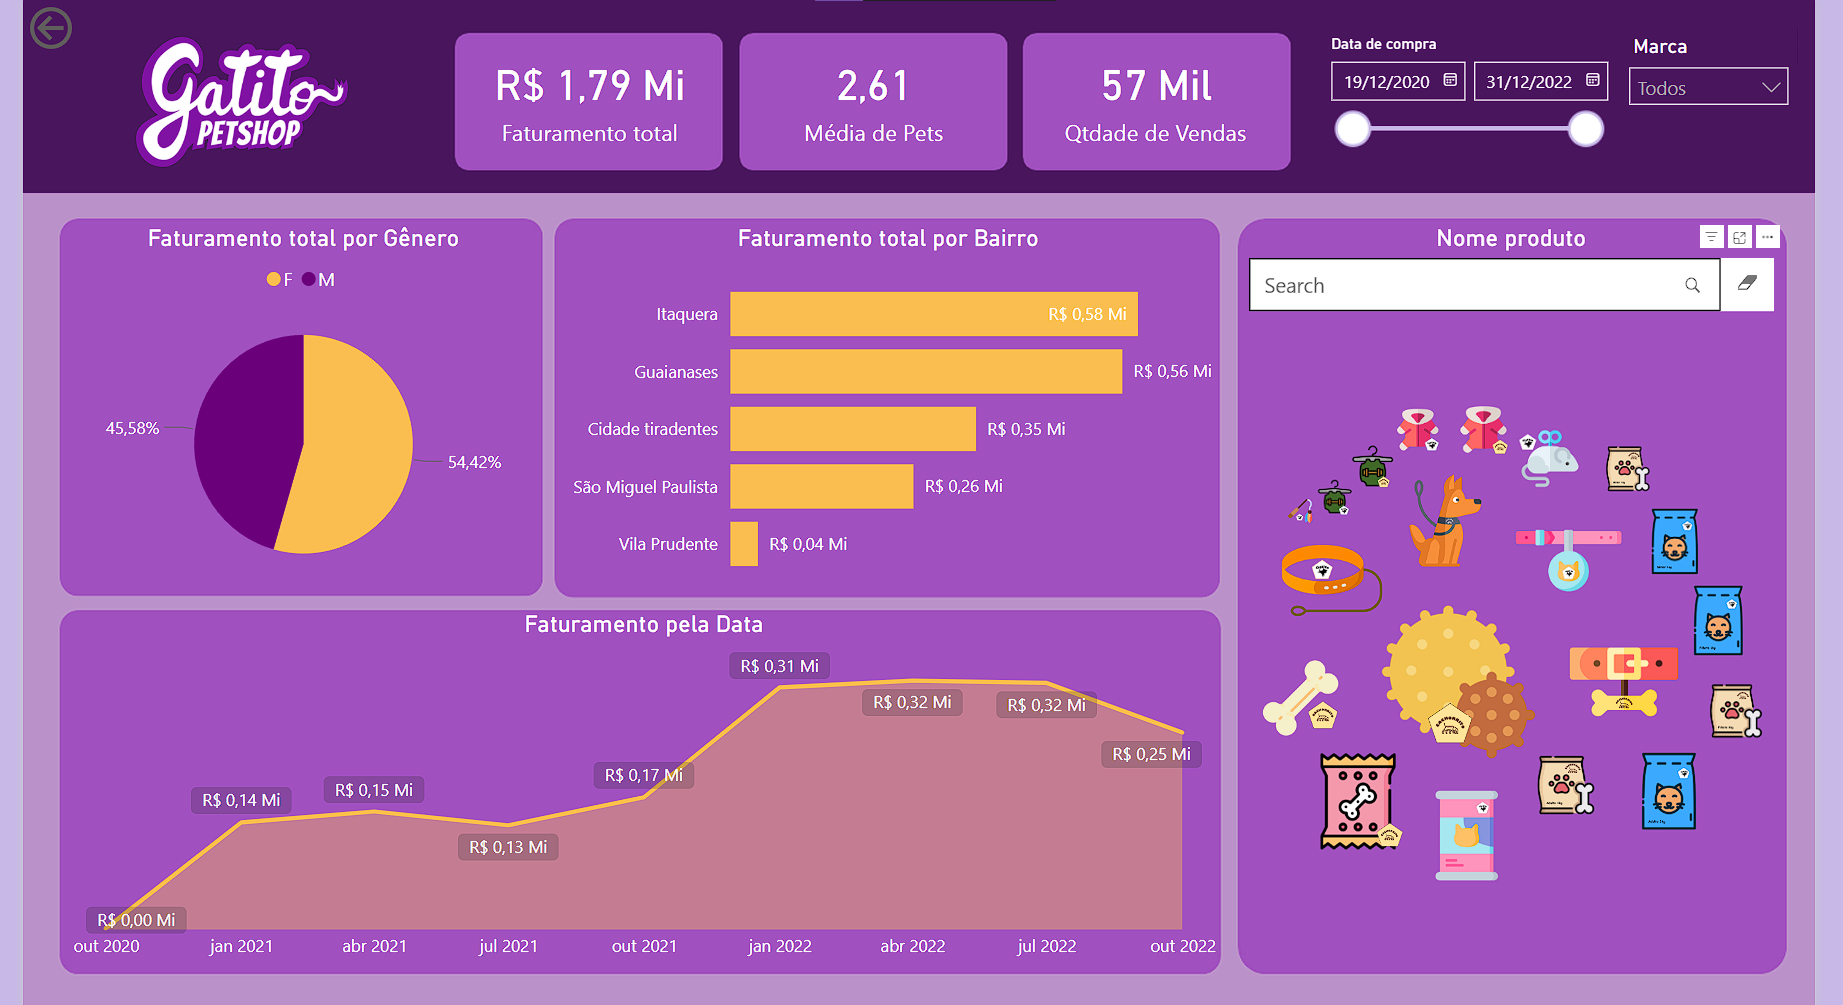

This screenshot's page, from the dashboard's own definition file:
{"tool":"powerbi","page":{"name":"Página 1","canvas":[1280,720],"ordinal":0},"visuals":[{"type":"card","fields":{"Values":["Avg(Clientes.Pets)"]},"box":[511,20.2,194,99.2],"z":0},{"type":"card","fields":{"Values":["Sum(Vendas.Quantidade)"]},"box":[713,20.2,192.3,99.2],"z":1000},{"type":"actionButton","box":[0,0,100,40],"z":2000},{"type":"card","fields":{"Values":["Vendas.Faturamento total"]},"box":[308.2,20.2,194,99.2],"z":3000},{"type":"pieChart","fields":{"Category":["Clientes.Gênero"],"Y":["Vendas.Faturamento total"]},"box":[29.9,159.8,340.7,266.9],"z":4000},{"type":"clusteredBarChart","fields":{"Category":["Clientes.Bairro"],"Y":["Vendas.Faturamento total"]},"box":[379.3,159.8,477.7,266.9],"z":5000},{"type":"areaChart","title":"Faturamento pela Data","fields":{"Category":["Vendas.Data de compra.Variation.Hierarquia de datas.Ano","Vendas.Data de compra.Variation.Hierarquia de datas.Trimestre","Vendas.Data de compra.Variation.Hierarquia de datas.Mês","Vendas.Data de compra.Variation.Hierarquia de datas.Dia"],"Y":["Vendas.Faturamento total"]},"box":[29.9,435.5,827.1,258.1],"z":6000},{"type":"ImageGrid_FC5183B9_926C_45E0_B5F7_0CE9EAF1DA9B","fields":{"ImageURL":["Produtos.Url img"]},"box":[857,224.8,414.4,468.9],"z":7000},{"type":"textFilter25A4896A83E0487089E2B90C9AE57C8A","fields":{"field":["Produtos.Nome produto"]},"box":[871,159.8,384.6,75.5],"z":8000},{"type":"slicer","fields":{"Values":["Produtos.Marca"]},"box":[1137.1,20.2,134.3,105.4],"z":9000},{"type":"slicer","fields":{"Values":["Vendas.Data de compra"]},"box":[921.1,20.2,216,105.4],"z":10000},{"type":"shape","box":[29.9,0,43,132.6],"z":11000}]}

Visuals, with their boxes on the page's 1280x720 design canvas (x1, y1, x2, y2). These are canvas units, not pixel positions in the 1843x1005 screenshot, which may show the page scaled, cropped or inside an application window:
card - Avg(Clientes.Pets): <box>511,20,705,119</box>
card - Sum(Vendas.Quantidade): <box>713,20,905,119</box>
actionButton: <box>0,0,100,40</box>
card - Vendas.Faturamento total: <box>308,20,502,119</box>
pieChart - Clientes.Gênero x Vendas.Faturamento total: <box>30,160,371,427</box>
clusteredBarChart - Clientes.Bairro x Vendas.Faturamento total: <box>379,160,857,427</box>
"Faturamento pela Data" areaChart: <box>30,436,857,694</box>
ImageGrid_FC5183B9_926C_45E0_B5F7_0CE9EAF1DA9B - Produtos.Url img: <box>857,225,1271,694</box>
textFilter25A4896A83E0487089E2B90C9AE57C8A - Produtos.Nome produto: <box>871,160,1256,235</box>
slicer - Produtos.Marca: <box>1137,20,1271,126</box>
slicer - Vendas.Data de compra: <box>921,20,1137,126</box>
shape: <box>30,0,73,133</box>
